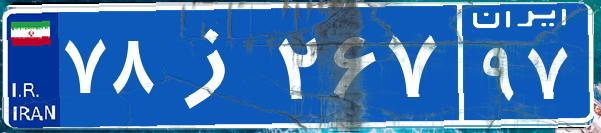2: (273, 28, 330, 110)
6: (330, 28, 385, 110)
7: (385, 28, 445, 110), (57, 26, 110, 107), (525, 38, 570, 115)
8: (110, 28, 158, 105)
9: (475, 38, 525, 113)
ز: (158, 15, 273, 115)
